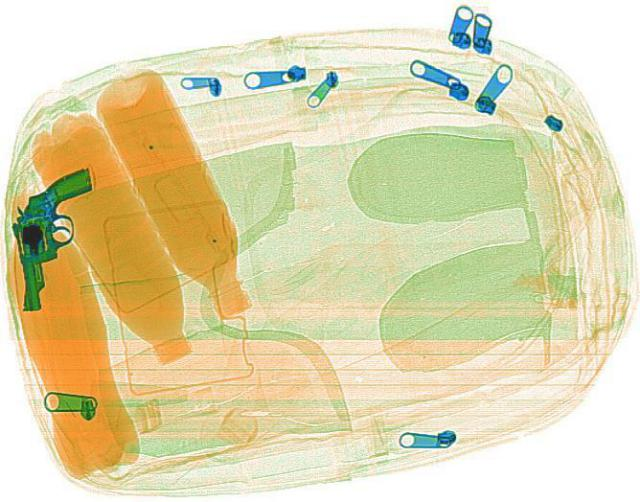Gun: (8, 161, 86, 311)
